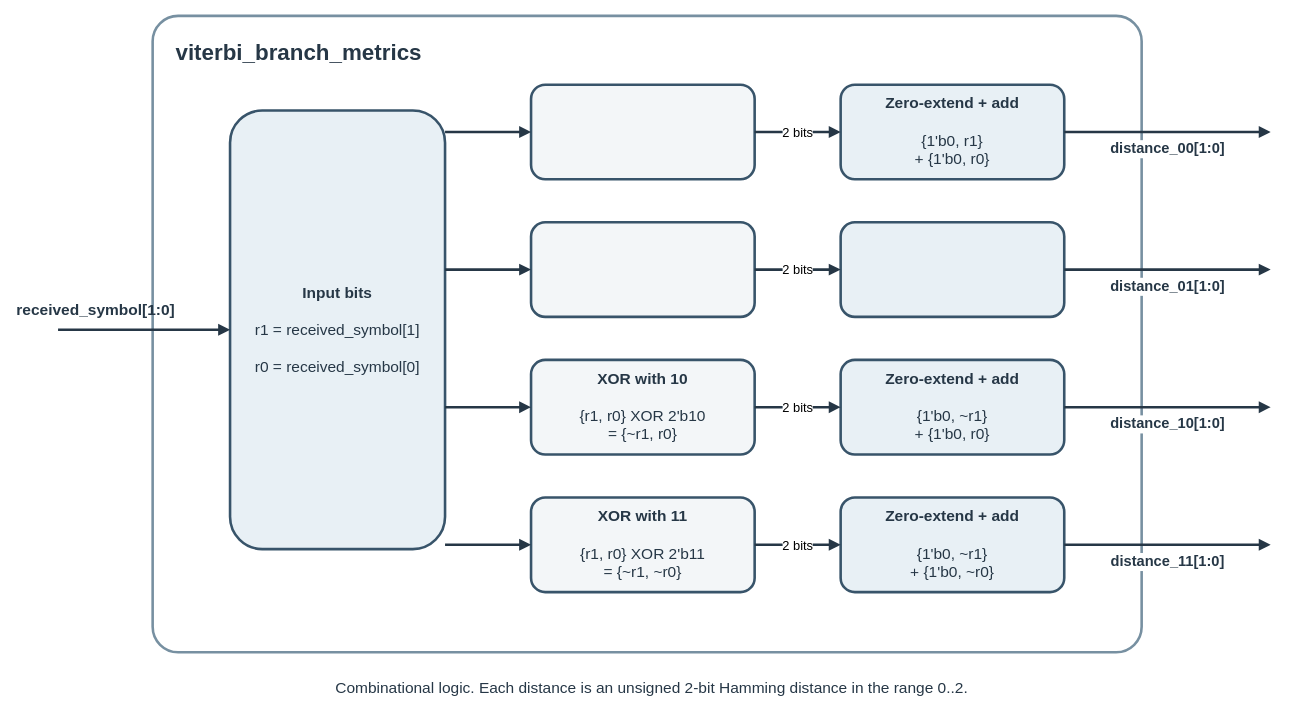
The diagram is 1293 pixels wide and 723 high, and some of its shapes have lost their labels. Each missing label, with the centre of its shape:
"XOR with 00 {r1, r0} XOR 2'b00 = {r1, r0}" belongs at [642,131].
"XOR with 01 {r1, r0} XOR 2'b01 = {r1, ~r0}" belongs at [642,269].
"Zero-extend + add {1'b0, r1} + {1'b0, ~r0}" belongs at [952,269].
